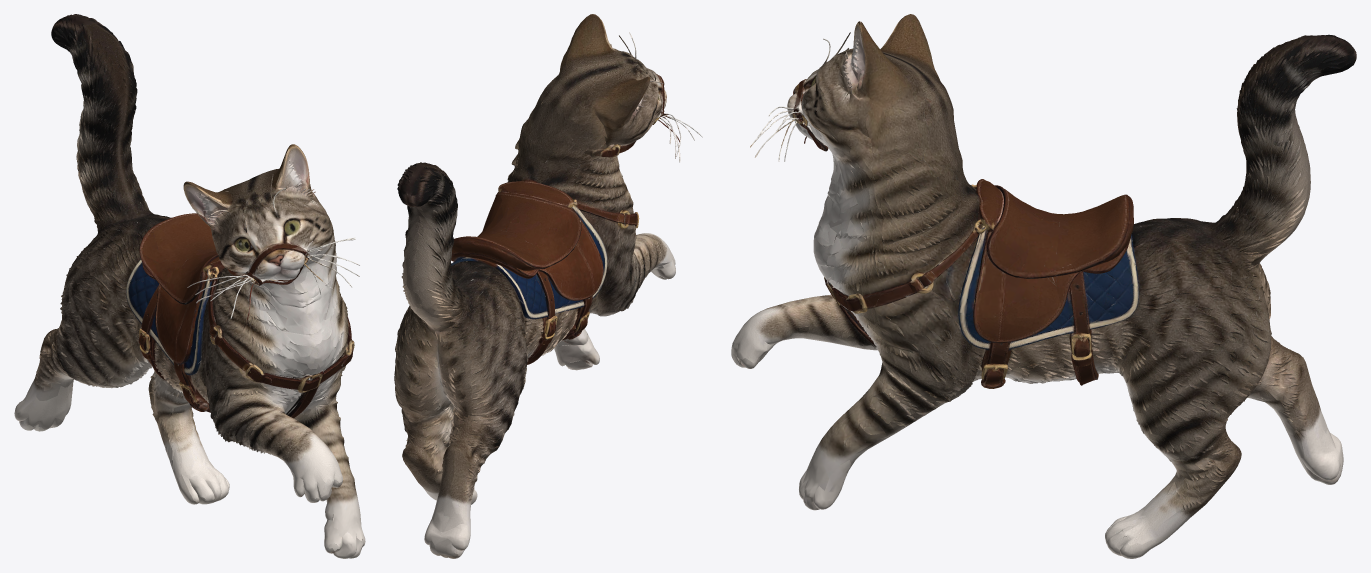
File: cat.glb
3 views of the same model, side by side, from view 1: azimuth 30°, elevation 25°; view 2: azimuth 150°, elevation 25°; view 3: azimuth 270°, elevation 25° (orthographic). The views are drawn at different scales.
Bounding box in the file's own units: 0.6987 × 1.71 × 1.9.
Materials: 1 (1 with a texture image).
